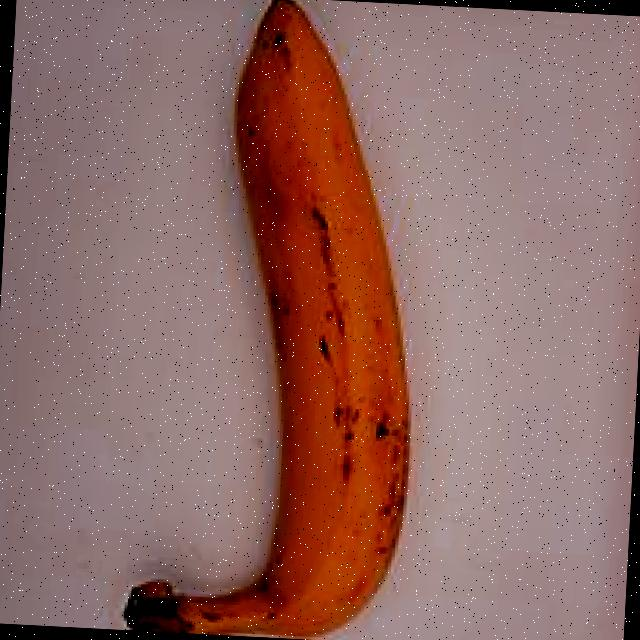Overripe: (45, 0, 485, 640)
